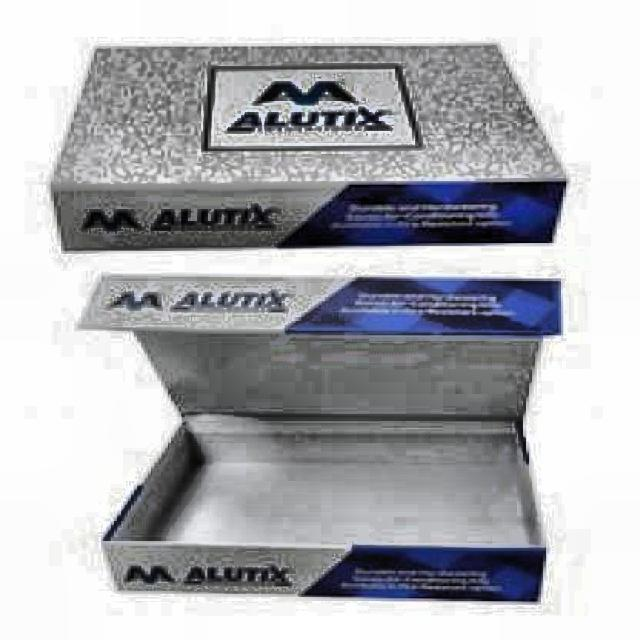Cardbox: (103, 58, 562, 626), (101, 537, 555, 603), (203, 60, 417, 157)
